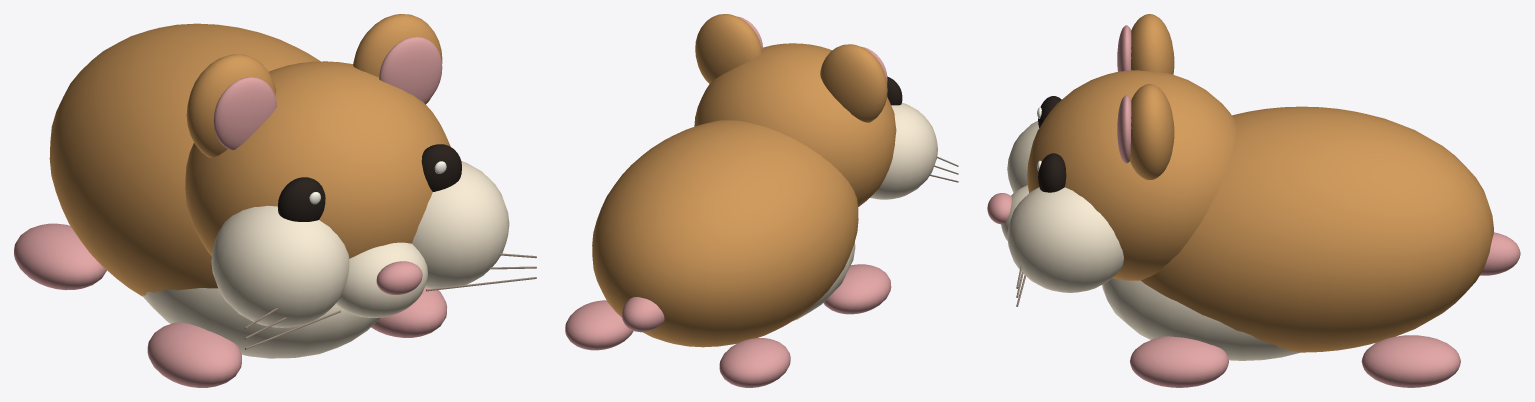
File: hamster.glb
3 renders of one model, left to right at view 1: azimuth 30°, elevation 25°; view 2: azimuth 150°, elevation 25°; view 3: azimuth 270°, elevation 25°, orthographic. The views are drawn at different scales.
Visible parts, largest first — view 1: Body, Head, Cheek-1, Cheek1, Belly, Paw-1-0.31, Paw-10.39, Muzzle, Ear-1, InnerEar-1, InnerEar1, Ear1 (+4 smaller); view 2: Body, Head, Ear-1, Cheek-1, Ear1, Paw-10.39, Paw10.39, Paw-1-0.31, Tail, Belly, Eye-1; view 3: Body, Head, Cheek1, Belly, Paw10.39, Paw1-0.31, Ear1, Ear-1, Cheek-1, Tail, Eye1, InnerEar1 (+2 smaller).
Part boxes in pixels (bbox=[...]): Body: bbox=[49, 23, 320, 296]; Head: bbox=[185, 61, 450, 258]; Cheek-1: bbox=[211, 205, 349, 327]; Cheek1: bbox=[412, 161, 509, 288]; Belly: bbox=[142, 288, 379, 358]; Paw-1-0.31: bbox=[147, 322, 241, 387]; Paw-10.39: bbox=[14, 223, 106, 290]; Muzzle: bbox=[336, 242, 427, 317]; Ear-1: bbox=[186, 54, 276, 158]; InnerEar-1: bbox=[213, 77, 276, 150]; InnerEar1: bbox=[379, 36, 442, 103]; Ear1: bbox=[353, 14, 442, 104]; Body: bbox=[592, 120, 858, 347]; Head: bbox=[694, 43, 896, 206]; Ear-1: bbox=[820, 44, 887, 122]; Cheek-1: bbox=[870, 102, 937, 199]; Ear1: bbox=[695, 14, 762, 83]; Paw-10.39: bbox=[719, 338, 790, 387]; Paw10.39: bbox=[565, 300, 633, 350]; Paw-1-0.31: bbox=[823, 264, 891, 314]; Tail: bbox=[622, 297, 664, 332]; Belly: bbox=[792, 242, 855, 321]; Eye-1: bbox=[887, 76, 902, 105]; Body: bbox=[1141, 106, 1493, 352]; Head: bbox=[1027, 70, 1236, 280]; Cheek1: bbox=[1007, 187, 1123, 292]; Belly: bbox=[1102, 278, 1299, 360]; Paw10.39: bbox=[1361, 335, 1460, 387]; Paw1-0.31: bbox=[1130, 336, 1228, 387]; Ear1: bbox=[1130, 84, 1174, 179]; Ear-1: bbox=[1131, 14, 1174, 74]; Cheek-1: bbox=[1007, 121, 1039, 193]; Tail: bbox=[1480, 232, 1520, 275]; Eye1: bbox=[1038, 153, 1066, 192]; InnerEar1: bbox=[1117, 95, 1131, 163].
Size of the model in its own units: 0.8815 by 0.98 by 1.61.
